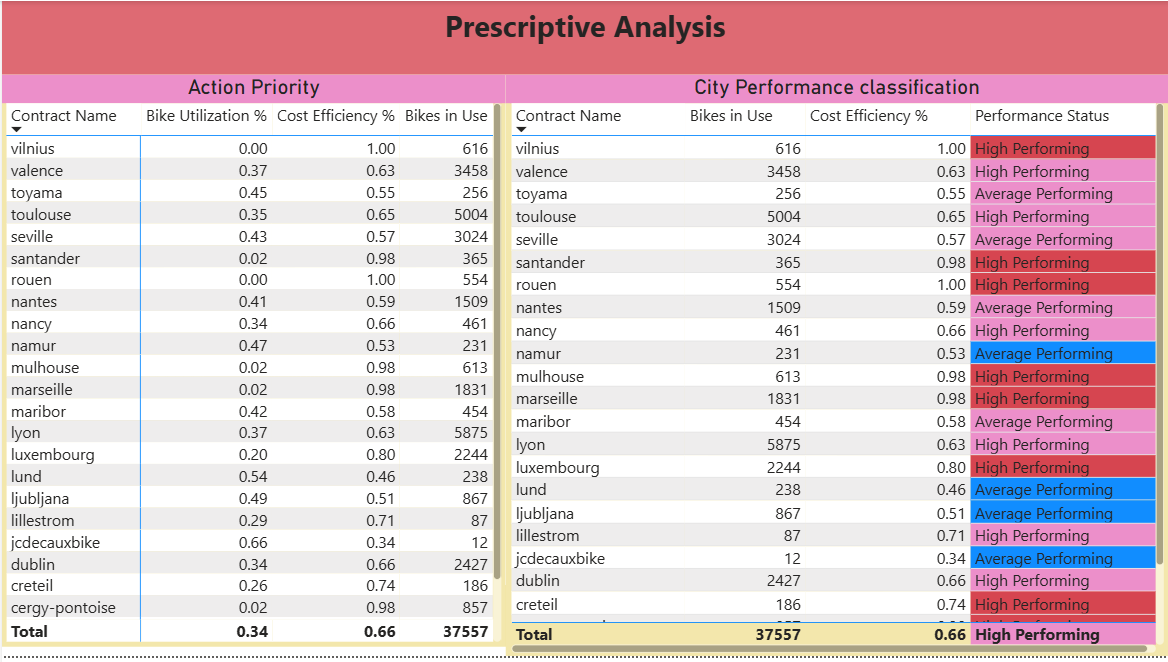

The page's visual inventory and layout, read from the dashboard file:
{"tool":"powerbi","page":{"name":"Prescriptive Analysis","canvas":[1280,720],"ordinal":12},"visuals":[{"type":"tableEx","title":"City Performance classification","fields":{"Values":["Dim_City.Contract Name","Fact_Table.Bikes in Use","Fact_Table.Cost Efficiency %","Fact_Table.Performance Status"]},"box":[553,81,727.3,639.5],"z":0},{"type":"actionButton","box":[0,0,100,40],"z":1000},{"type":"pivotTable","title":"Action Priority","fields":{"Rows":["Dim_City.Contract Name"],"Values":["Fact_Table.Bike Utilization %","Fact_Table.Cost Efficiency %","Fact_Table.Bikes in Use"]},"box":[0,81,553,627.1],"z":2000},{"type":"textbox","box":[0,0,1280.3,81],"z":3000}]}

Visuals, with their boxes in screenshot pixels (x1, y1, x2, y2), scaled from the page's 1280x720 canvas onto the 1168x662 screenshot:
"City Performance classification" tableEx: pyautogui.locateOnScreen(505, 74, 1167, 661)
actionButton: pyautogui.locateOnScreen(0, 0, 91, 37)
"Action Priority" pivotTable: pyautogui.locateOnScreen(0, 74, 505, 651)
textbox: pyautogui.locateOnScreen(0, 0, 1167, 74)
